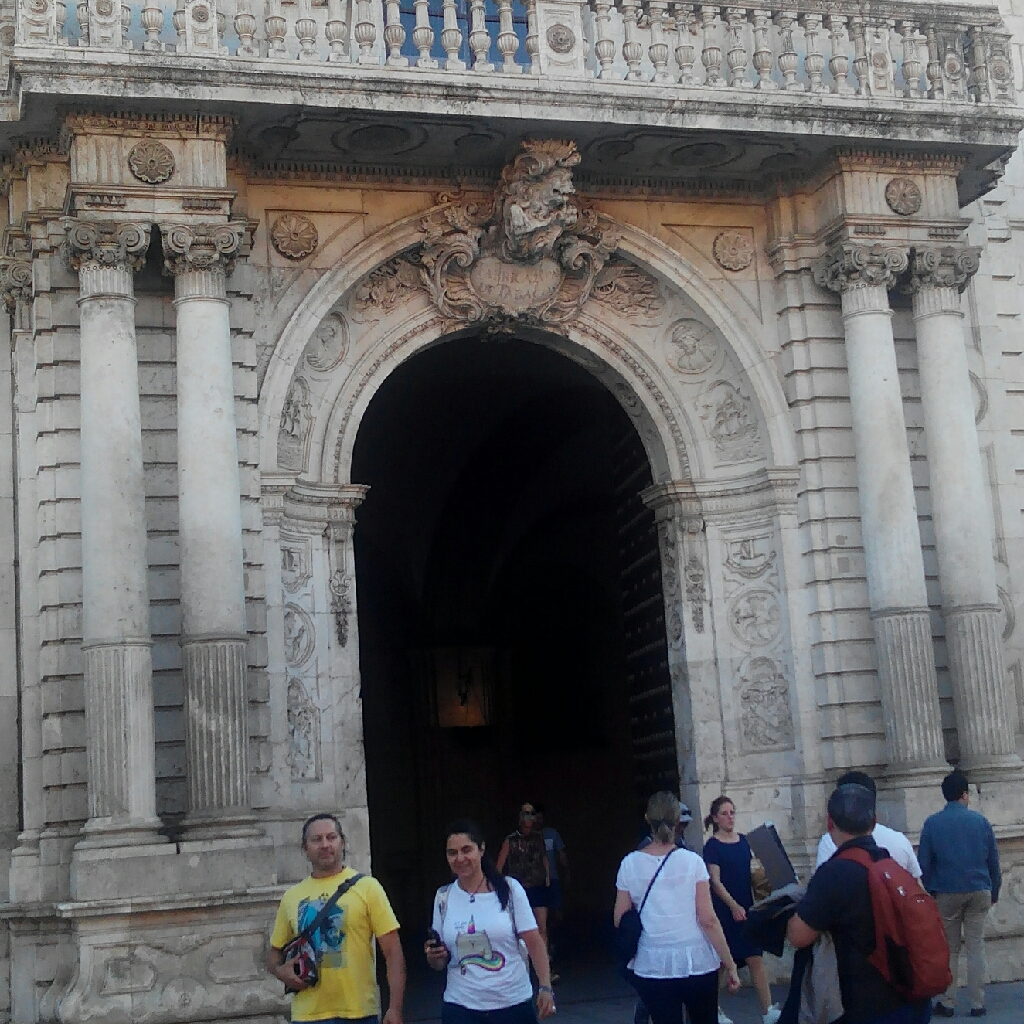arco-medio-punto: (335, 312, 700, 563)
